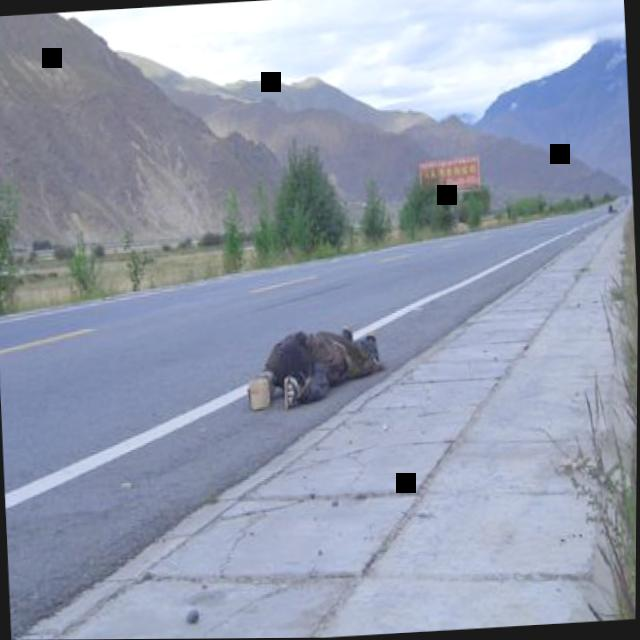Fall-Detected: (237, 309, 390, 419)
